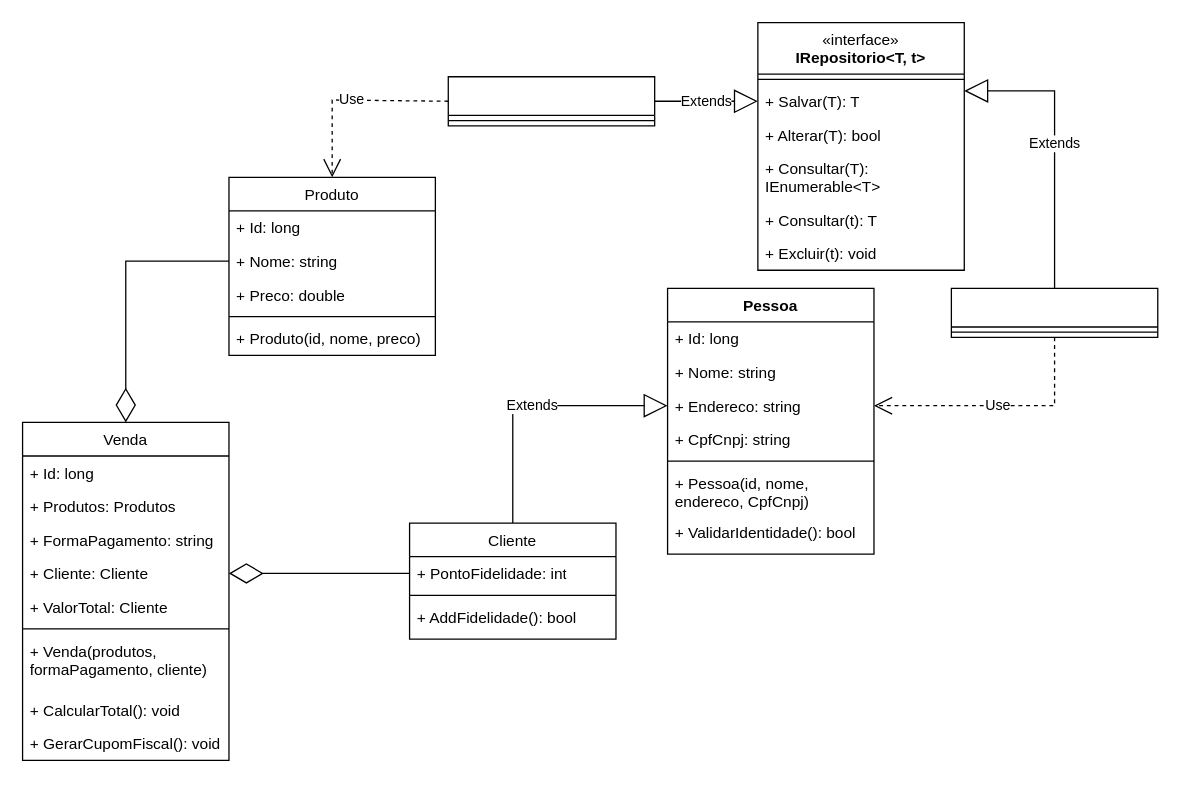
Image size: 1180x787. Some labels were removed from this diagram. Here are the shapes that lost their labels. From the top down, the centre of each, then its label:
At point 551,100: "RepositorioProduto".
At point 1054,312: "RepositorioCliente".
